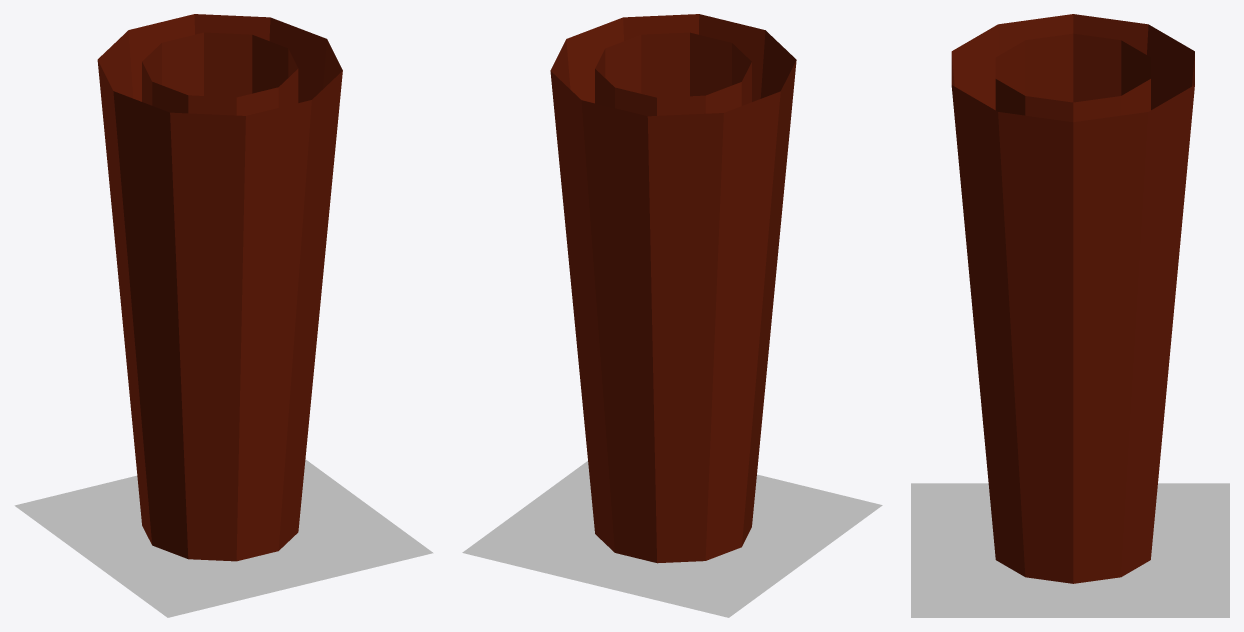
Rendered from EVT_SPAWN_01.OBJ.
3 views of the same model, side by side, from view 1: azimuth 30°, elevation 25°; view 2: azimuth 150°, elevation 25°; view 3: azimuth 270°, elevation 25° (orthographic). The views are drawn at different scales.
Parts seen in each view (by area): view 1: EVT_SPAWN_01; view 2: EVT_SPAWN_01; view 3: EVT_SPAWN_01.
Part boxes in pixels (<box>): EVT_SPAWN_01: <box>14,14,433,617</box>; EVT_SPAWN_01: <box>462,14,882,617</box>; EVT_SPAWN_01: <box>911,14,1229,617</box>.
Size of the model in its own units: 1.2 by 2 by 1.2.
